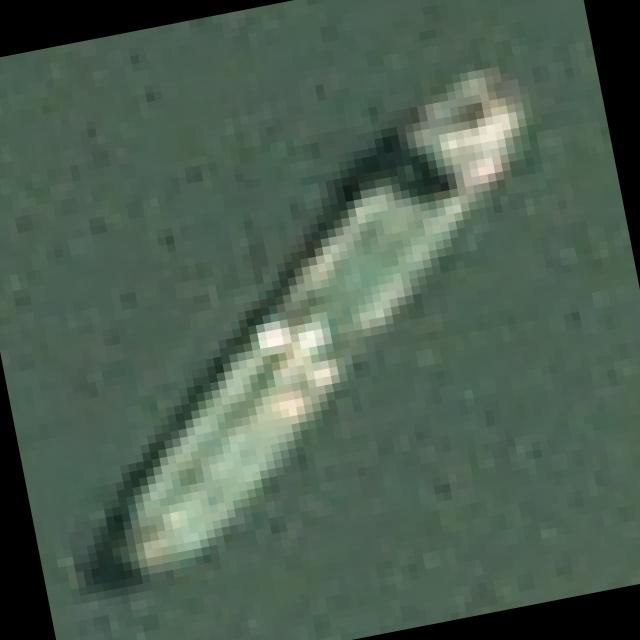ship: (8, 32, 620, 598)
